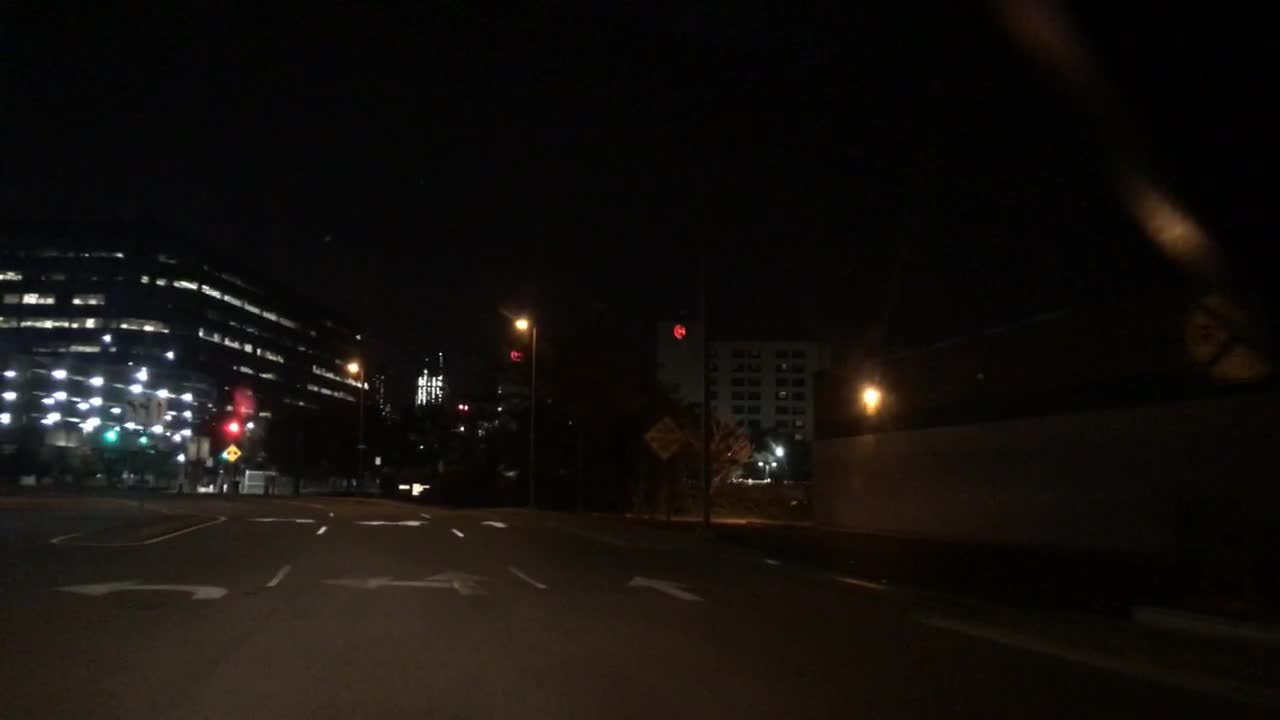traffic light: (863, 385, 879, 414), (670, 318, 686, 341), (102, 429, 117, 444), (508, 347, 520, 363), (136, 433, 150, 446), (225, 418, 238, 432), (219, 448, 229, 463), (455, 401, 467, 413)
traffic sign: (644, 414, 690, 462), (225, 443, 243, 463)
